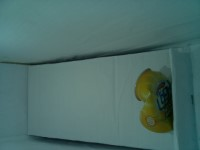kaleng: (133, 67, 173, 134)
